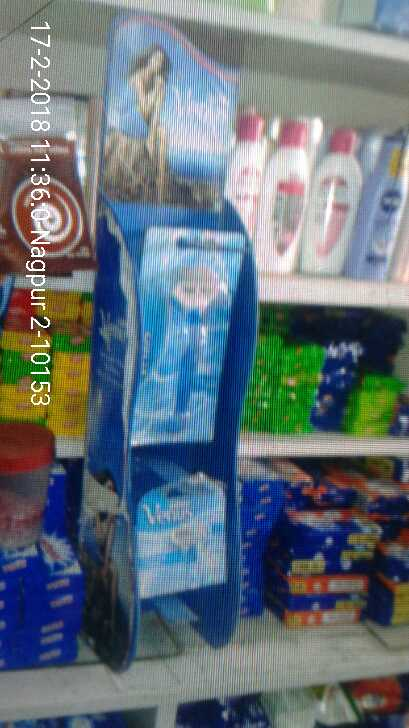venus: (132, 227, 248, 440), (136, 479, 233, 593)
